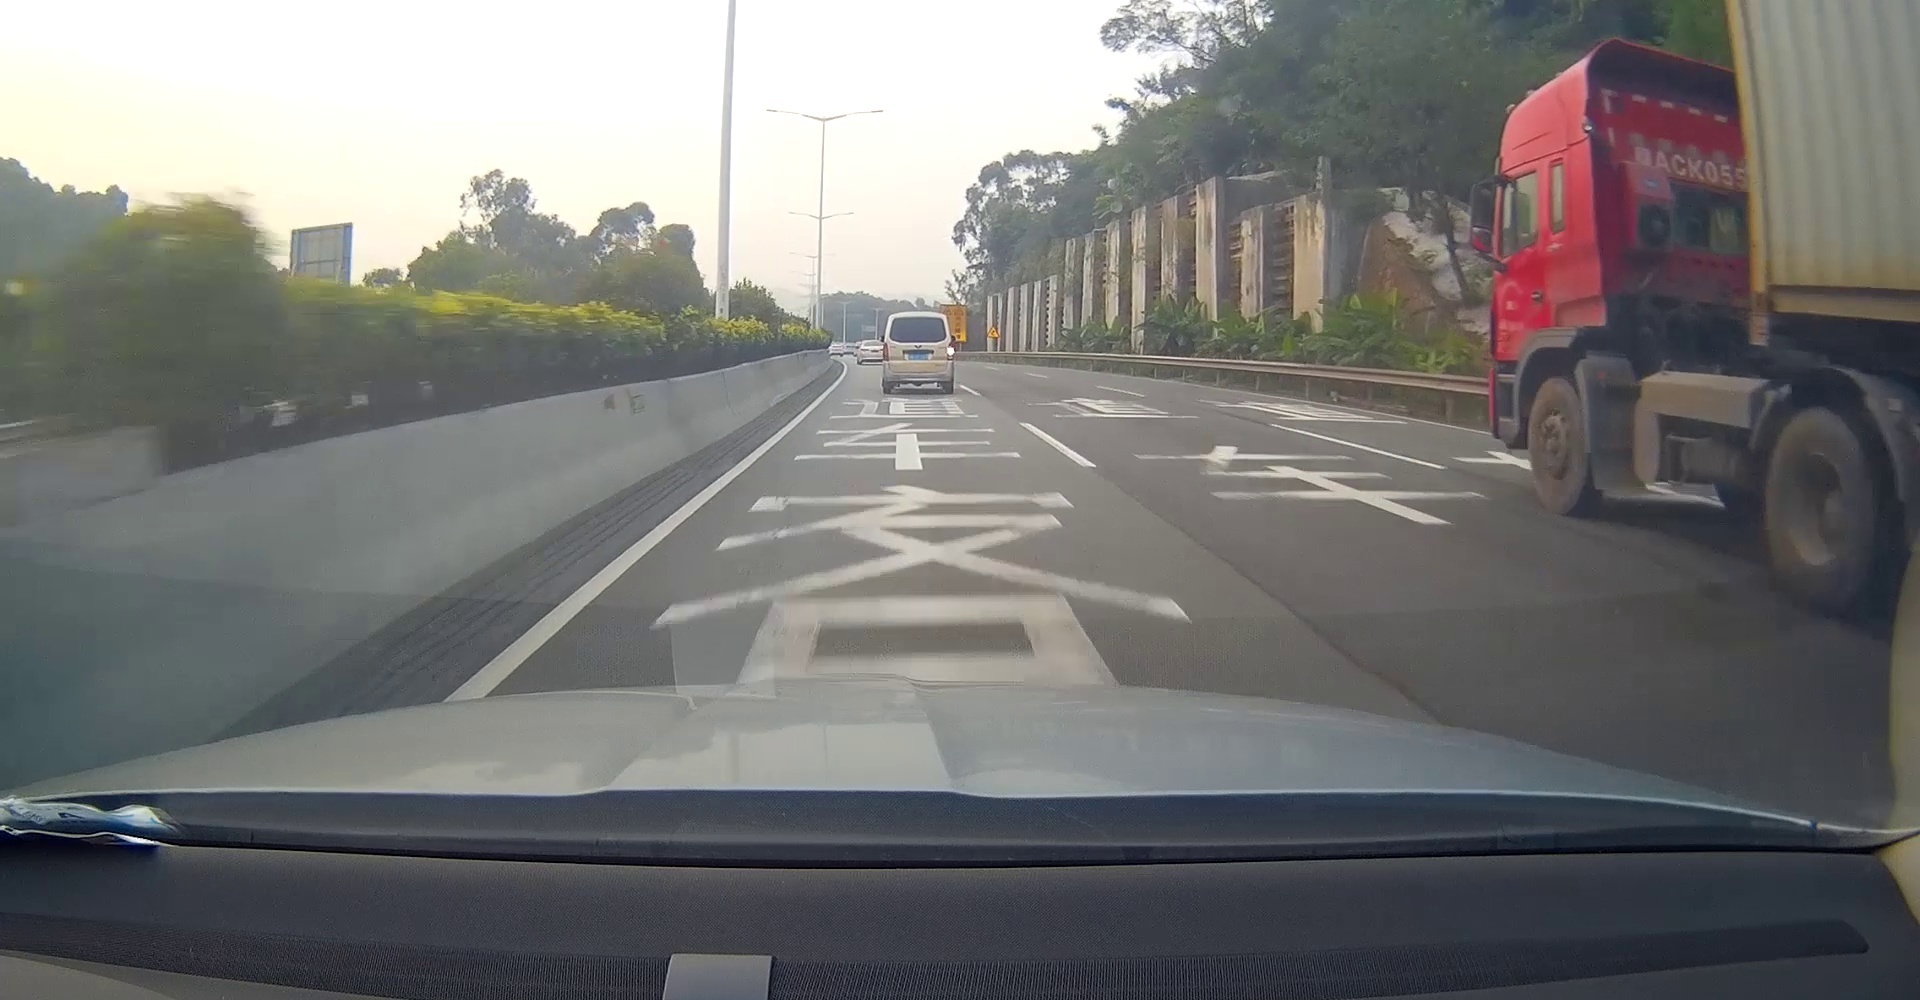L_light: (883, 341, 889, 362)
R_light: (947, 341, 955, 360)
T_light: (912, 317, 924, 319)
day-right: (883, 311, 955, 395)
